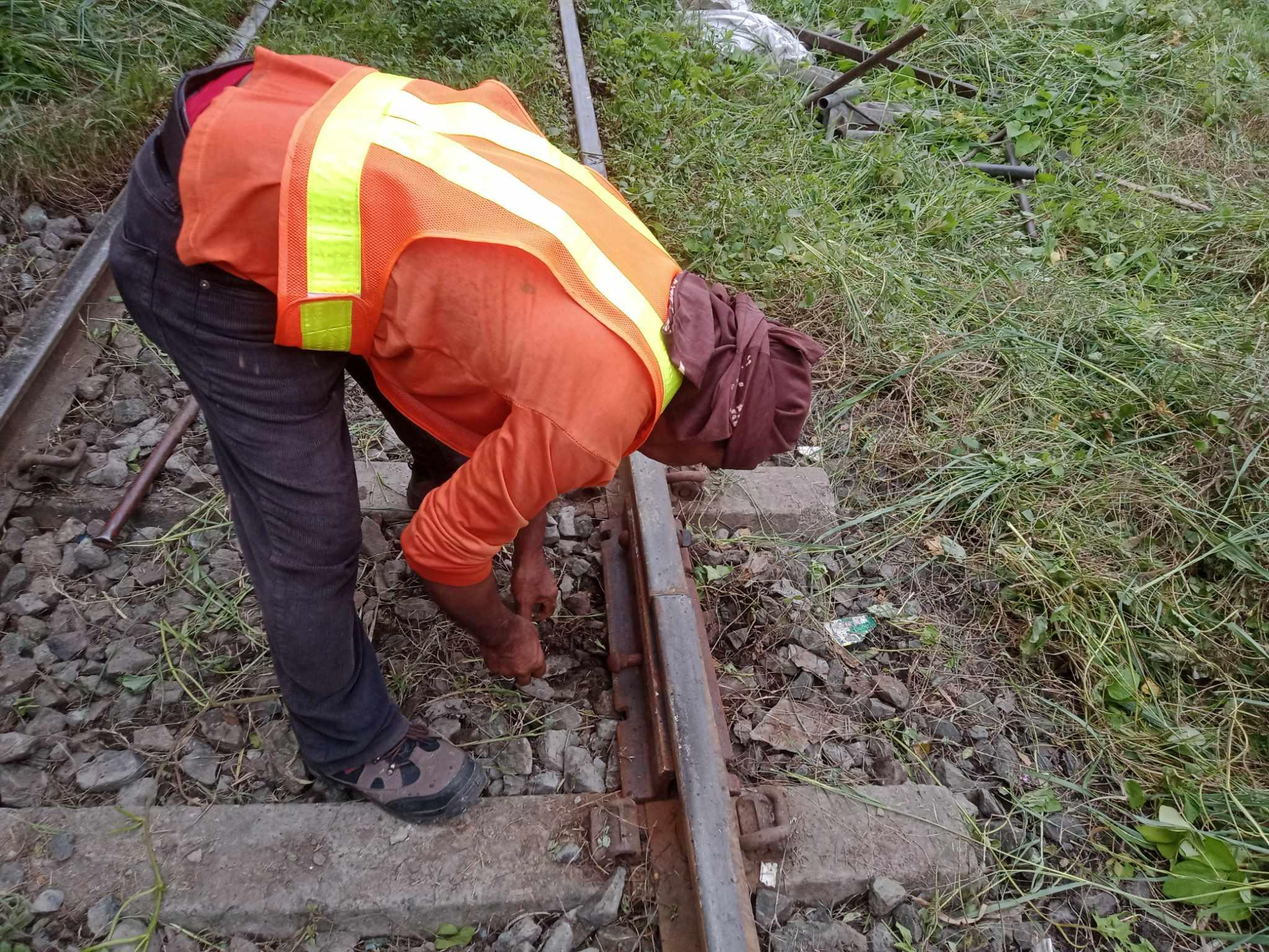railway-gap: (632, 558, 708, 632)
